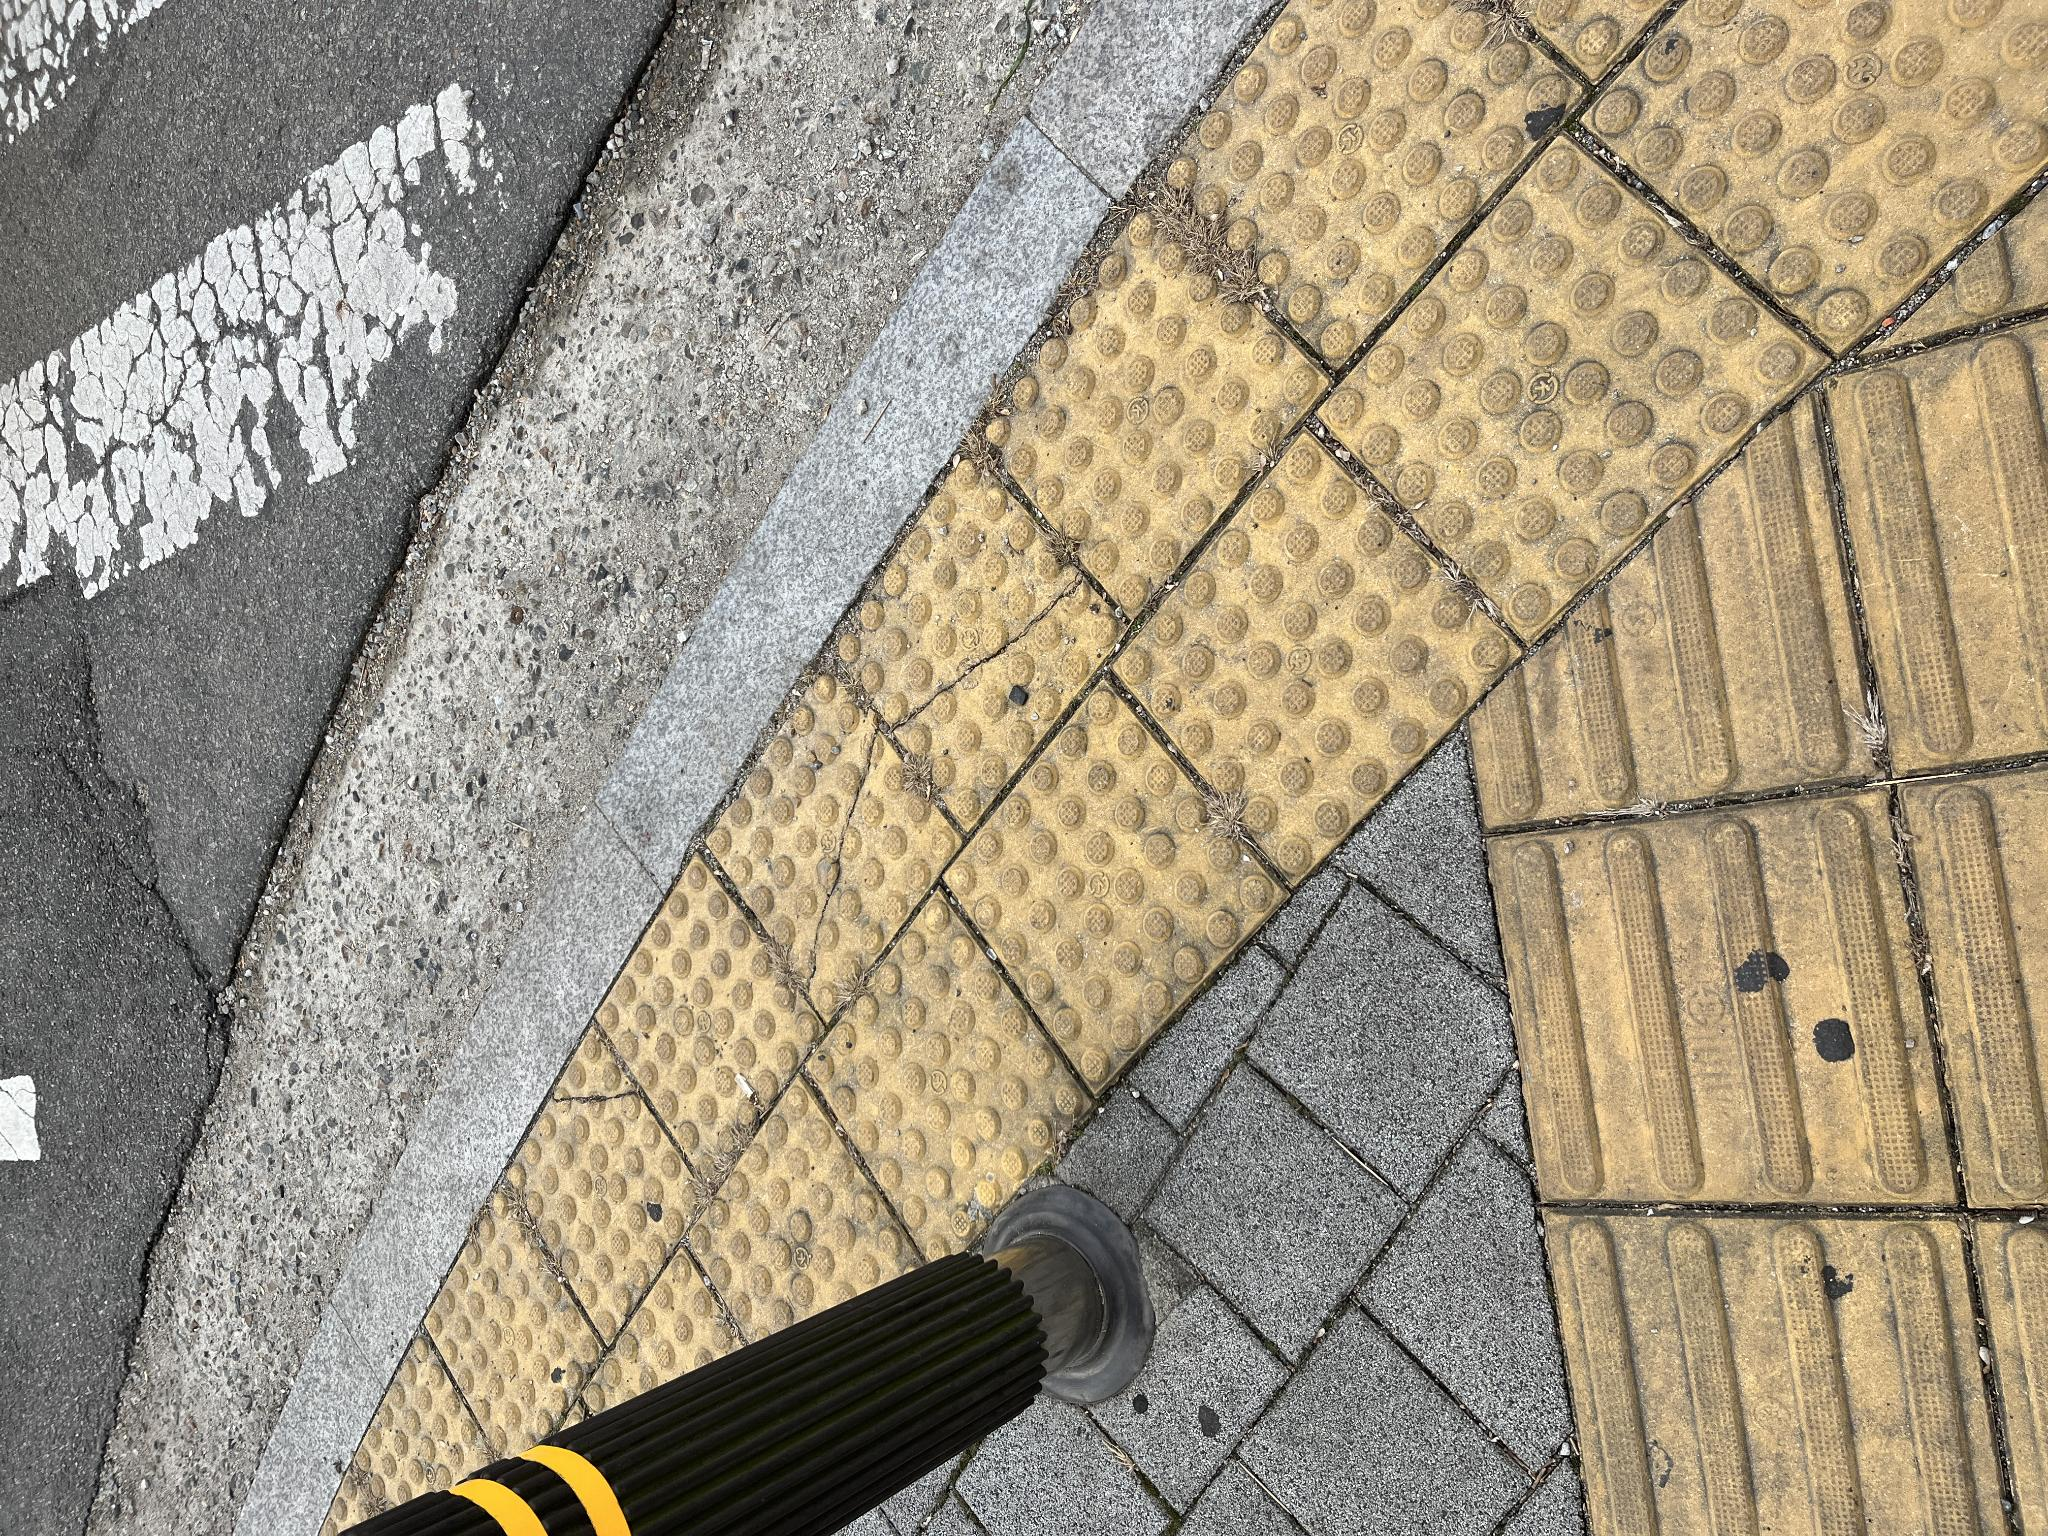Stop block broken: (703, 829, 1089, 1126)
Stop block normal: (655, 1115, 1103, 1517), (918, 983, 1330, 1321), (443, 945, 856, 1281), (893, 1320, 1374, 1536)
